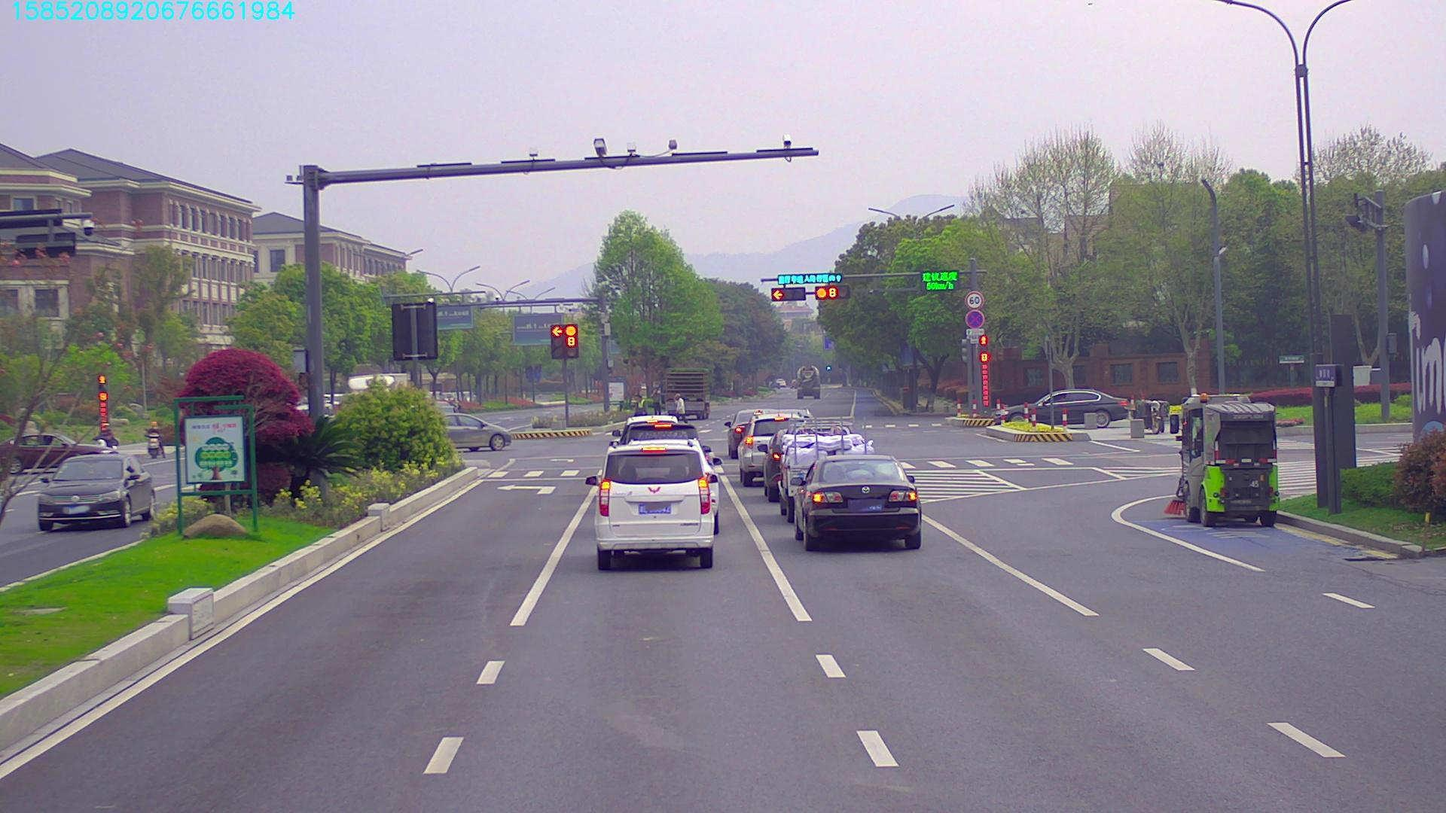red: (769, 288, 807, 301), (813, 285, 850, 297)
wait_on: (777, 271, 844, 282)
